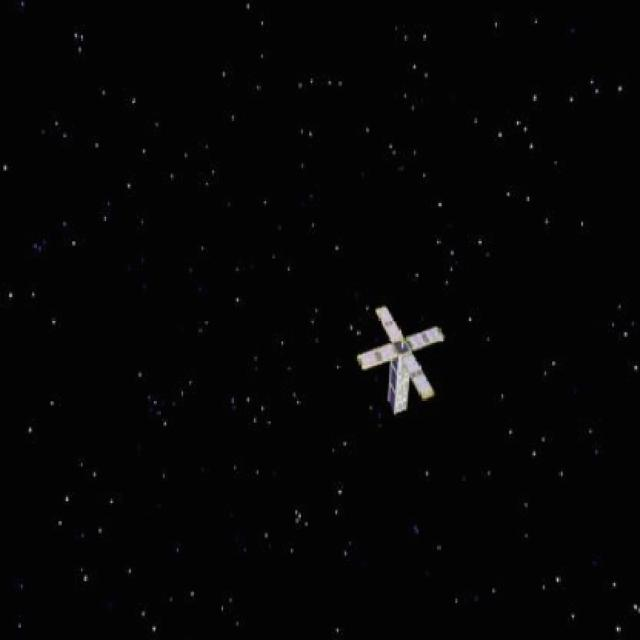medium_debris: (342, 302, 466, 423)
